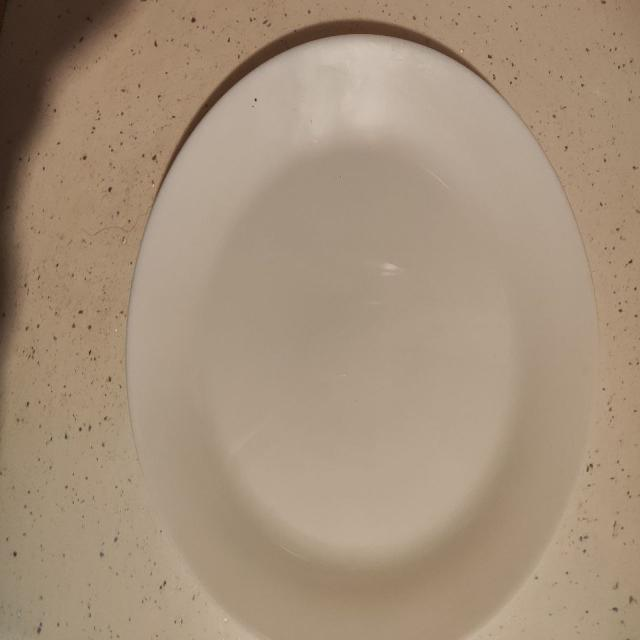Circle: (127, 34, 598, 640)
